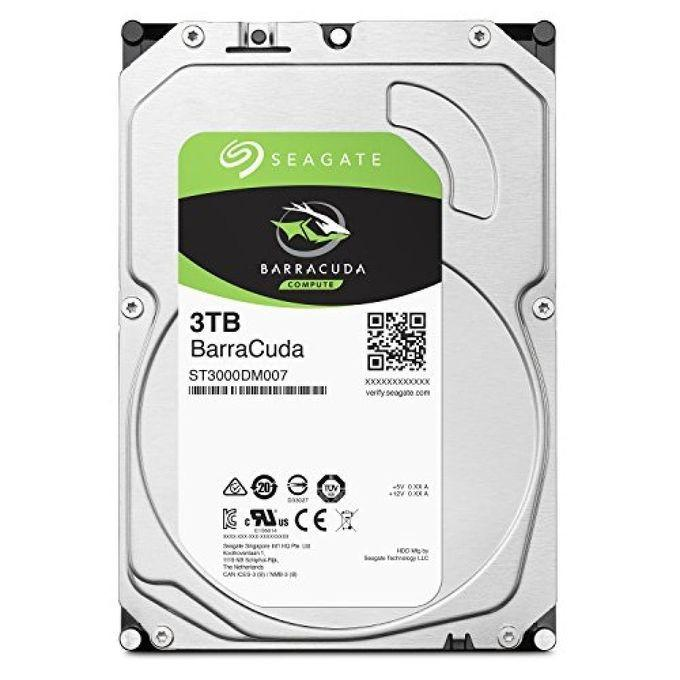internal HDD: (116, 20, 560, 658)
